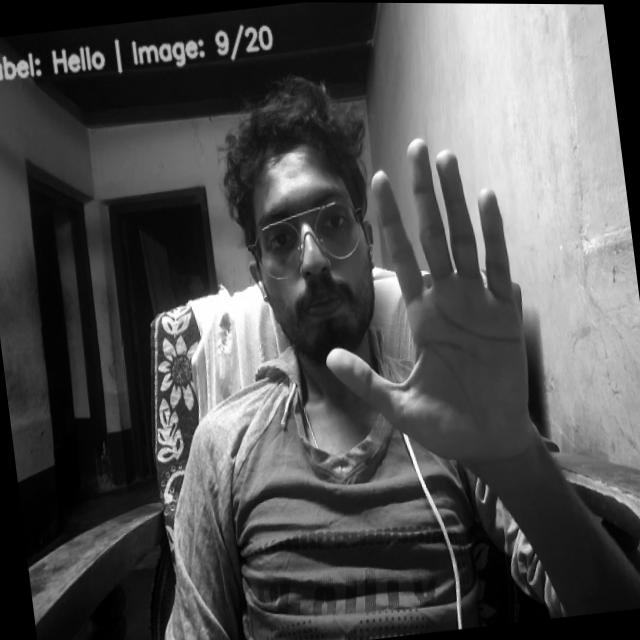Hello: (302, 125, 560, 509)
